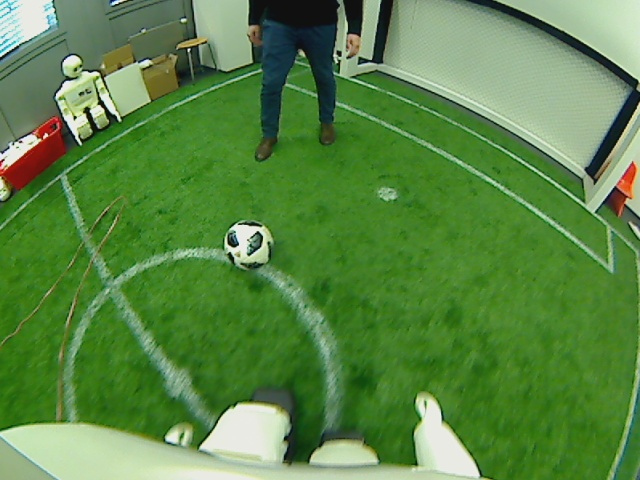ball: (222, 218, 273, 271)
